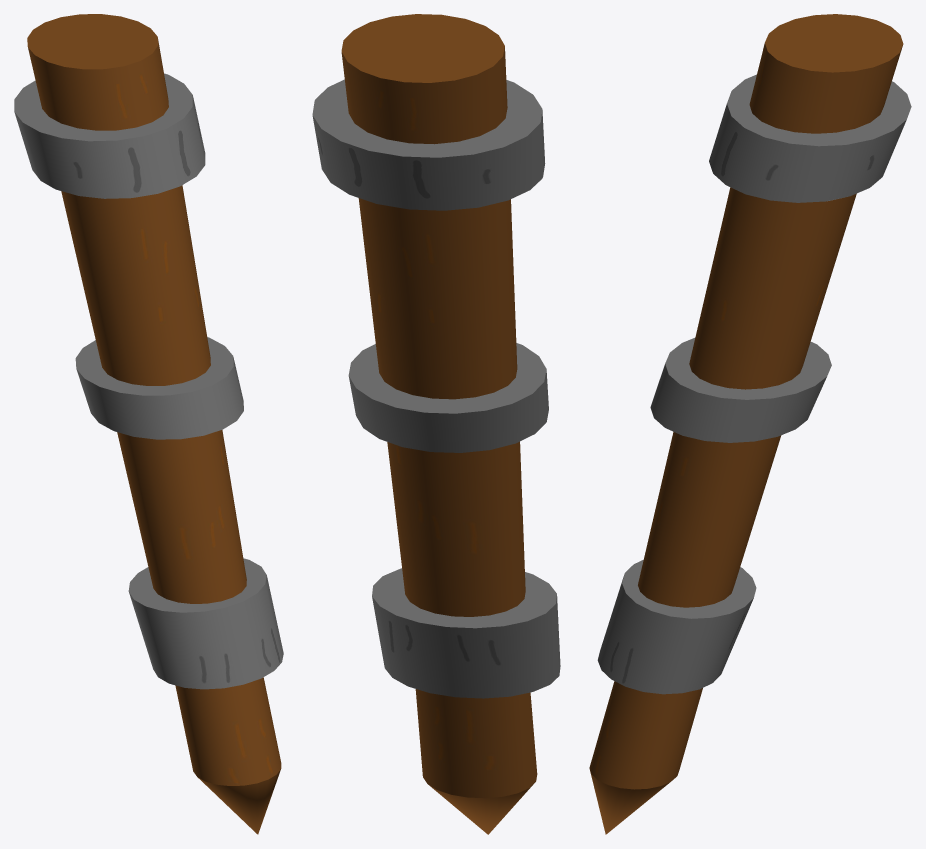
The model's file is L_Torch1.fbx.
3 renders of one model, left to right at view 1: azimuth 30°, elevation 25°; view 2: azimuth 150°, elevation 25°; view 3: azimuth 270°, elevation 25°, orthographic. The views are drawn at different scales.
Parts seen in each view (by area): view 1: L_Torch; view 2: L_Torch; view 3: L_Torch.
Part boxes in pixels (left/top/right/bottom): L_Torch: left=14, top=14, right=283, bottom=834; L_Torch: left=312, top=14, right=560, bottom=834; L_Torch: left=589, top=14, right=911, bottom=834.
Size of the model in its own units: 0.2801 by 1.07 by 0.411.
Materials: 1 (1 with a texture image).
